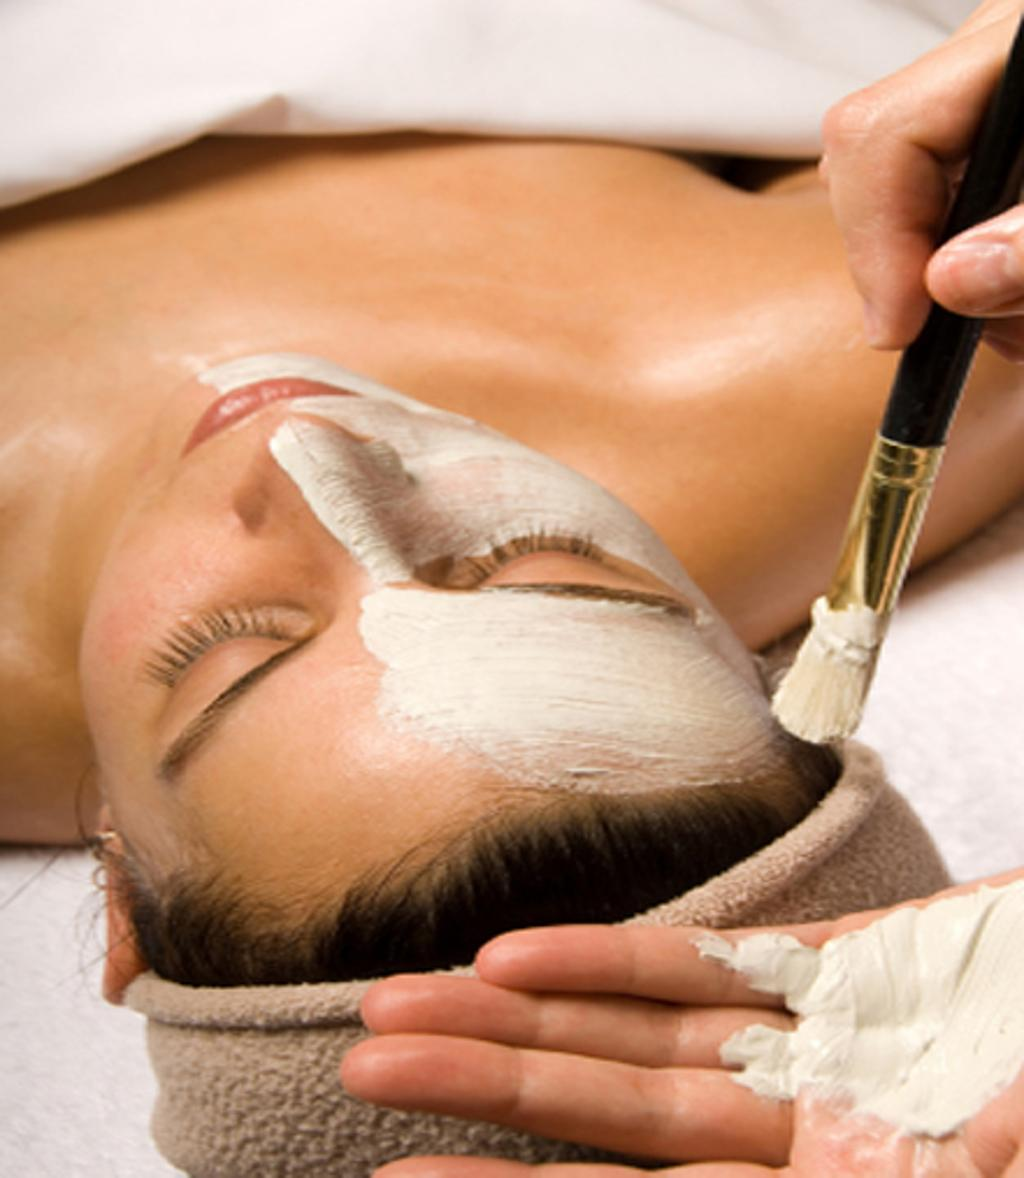face: (117, 373, 644, 806)
